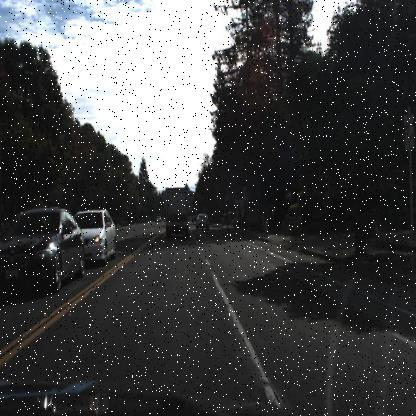car: (0, 207, 86, 299), (87, 208, 119, 264), (191, 210, 211, 233)
truck: (162, 186, 192, 242)
